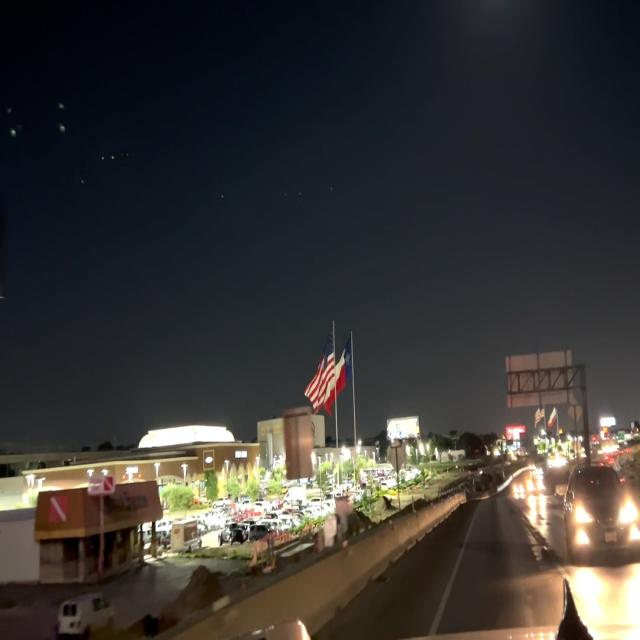back-of-sign: (503, 345, 576, 411)
